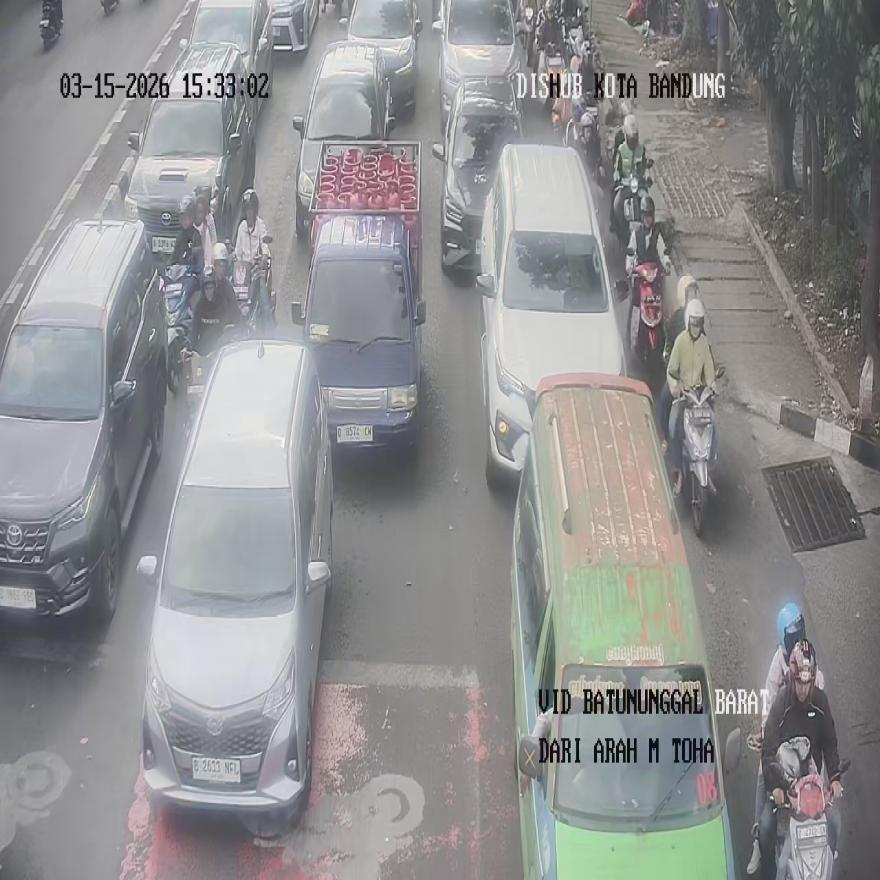Motor: (509, 374, 736, 876), (136, 338, 334, 832), (0, 218, 166, 620), (475, 144, 626, 485), (292, 142, 424, 447), (124, 40, 256, 266), (293, 39, 395, 237), (432, 74, 522, 268), (432, 0, 524, 123), (181, 0, 272, 110), (341, 0, 420, 115)
Truk: (768, 737, 848, 879), (672, 386, 716, 534), (627, 250, 666, 382), (162, 263, 198, 396), (610, 172, 644, 285), (238, 233, 276, 334), (531, 3, 566, 108), (564, 23, 594, 108), (566, 94, 598, 166), (39, 0, 63, 49), (101, 0, 119, 16)
